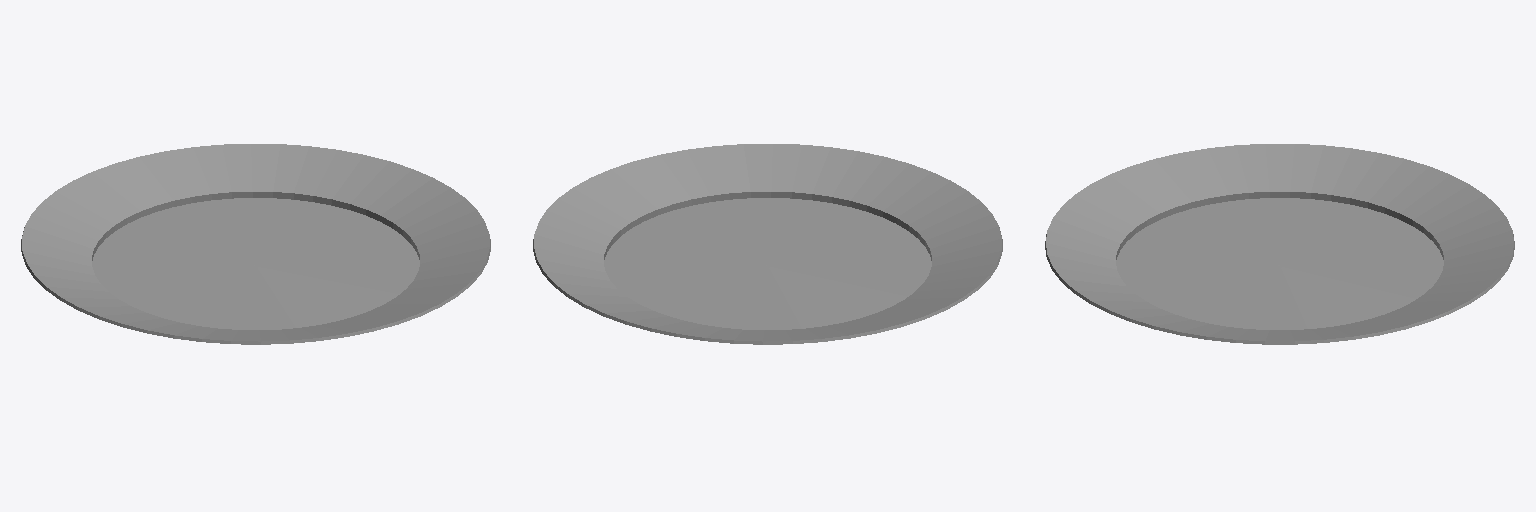
File: kroznik.obj
The picture shows the model from 3 angles: view 1: azimuth 30°, elevation 25°; view 2: azimuth 150°, elevation 25°; view 3: azimuth 270°, elevation 25°; orthographic projection.
Visible parts, largest first — view 1: Circle; view 2: Circle; view 3: Circle.
Boxes of the visible parts, x1,y1,x2,y2 form: Circle: [21, 144, 490, 344]; Circle: [533, 144, 1002, 344]; Circle: [1045, 144, 1514, 344].
Size of the model in its own units: 2.81 by 0.1779 by 2.82.